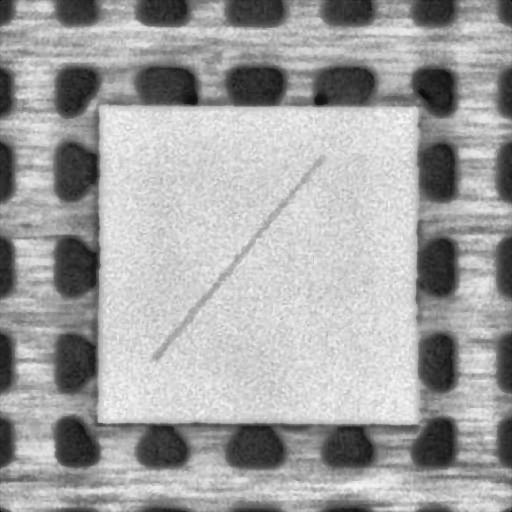DIE_CRACK: (154, 158, 319, 358)
